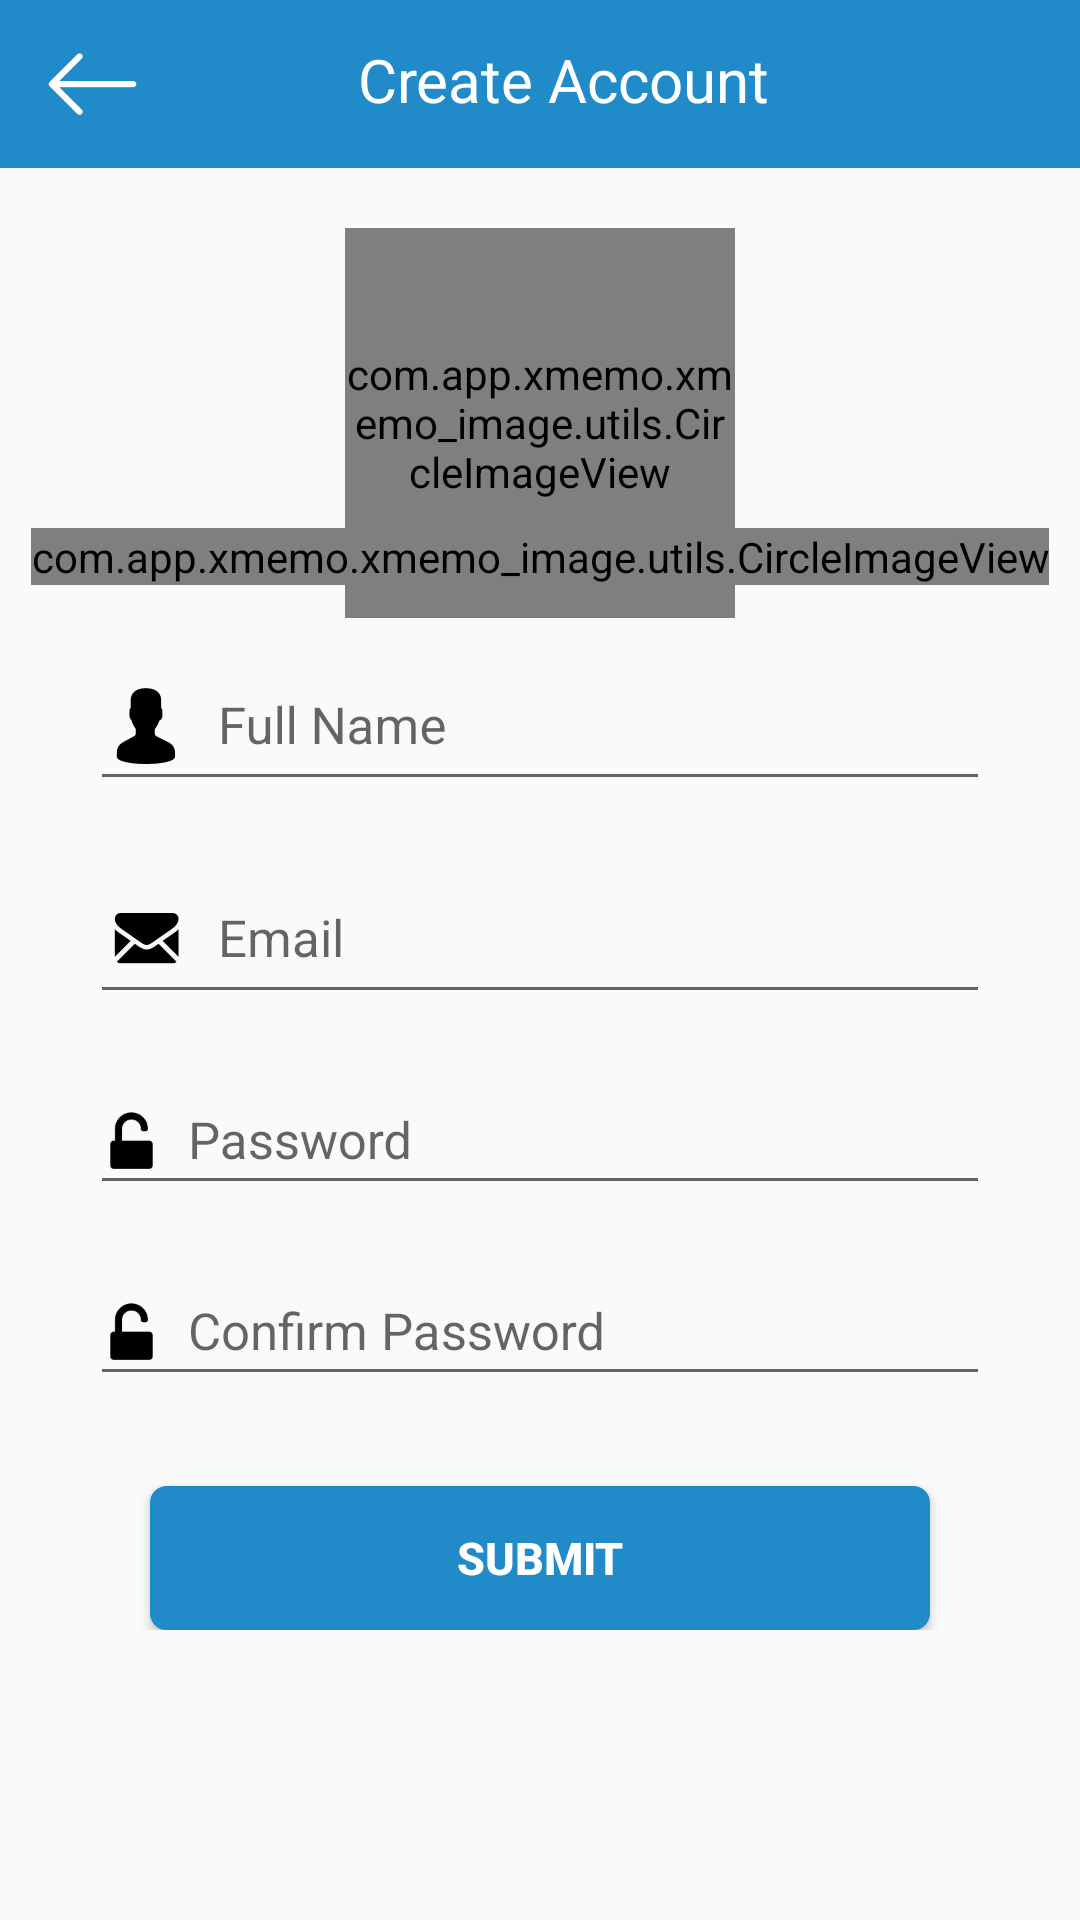

Named icons in this screenshot (1080 × 1920) and their centers, (x,y):
back arrow: (92,84)
